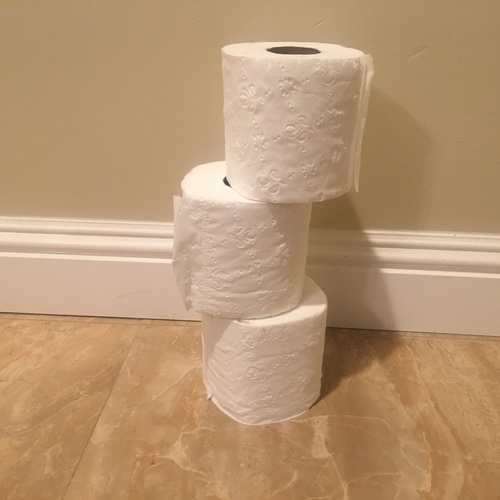roll: (221, 42, 371, 201), (177, 162, 309, 315), (199, 276, 327, 423)
